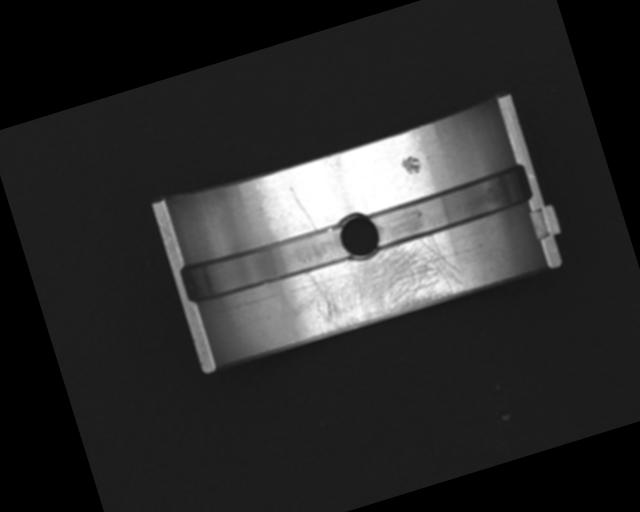bruise: (399, 152, 424, 178)
gap: (179, 220, 351, 307), (366, 165, 534, 250)
hole: (333, 208, 385, 264)
nick: (289, 182, 318, 234)
scratch: (288, 228, 466, 341)
